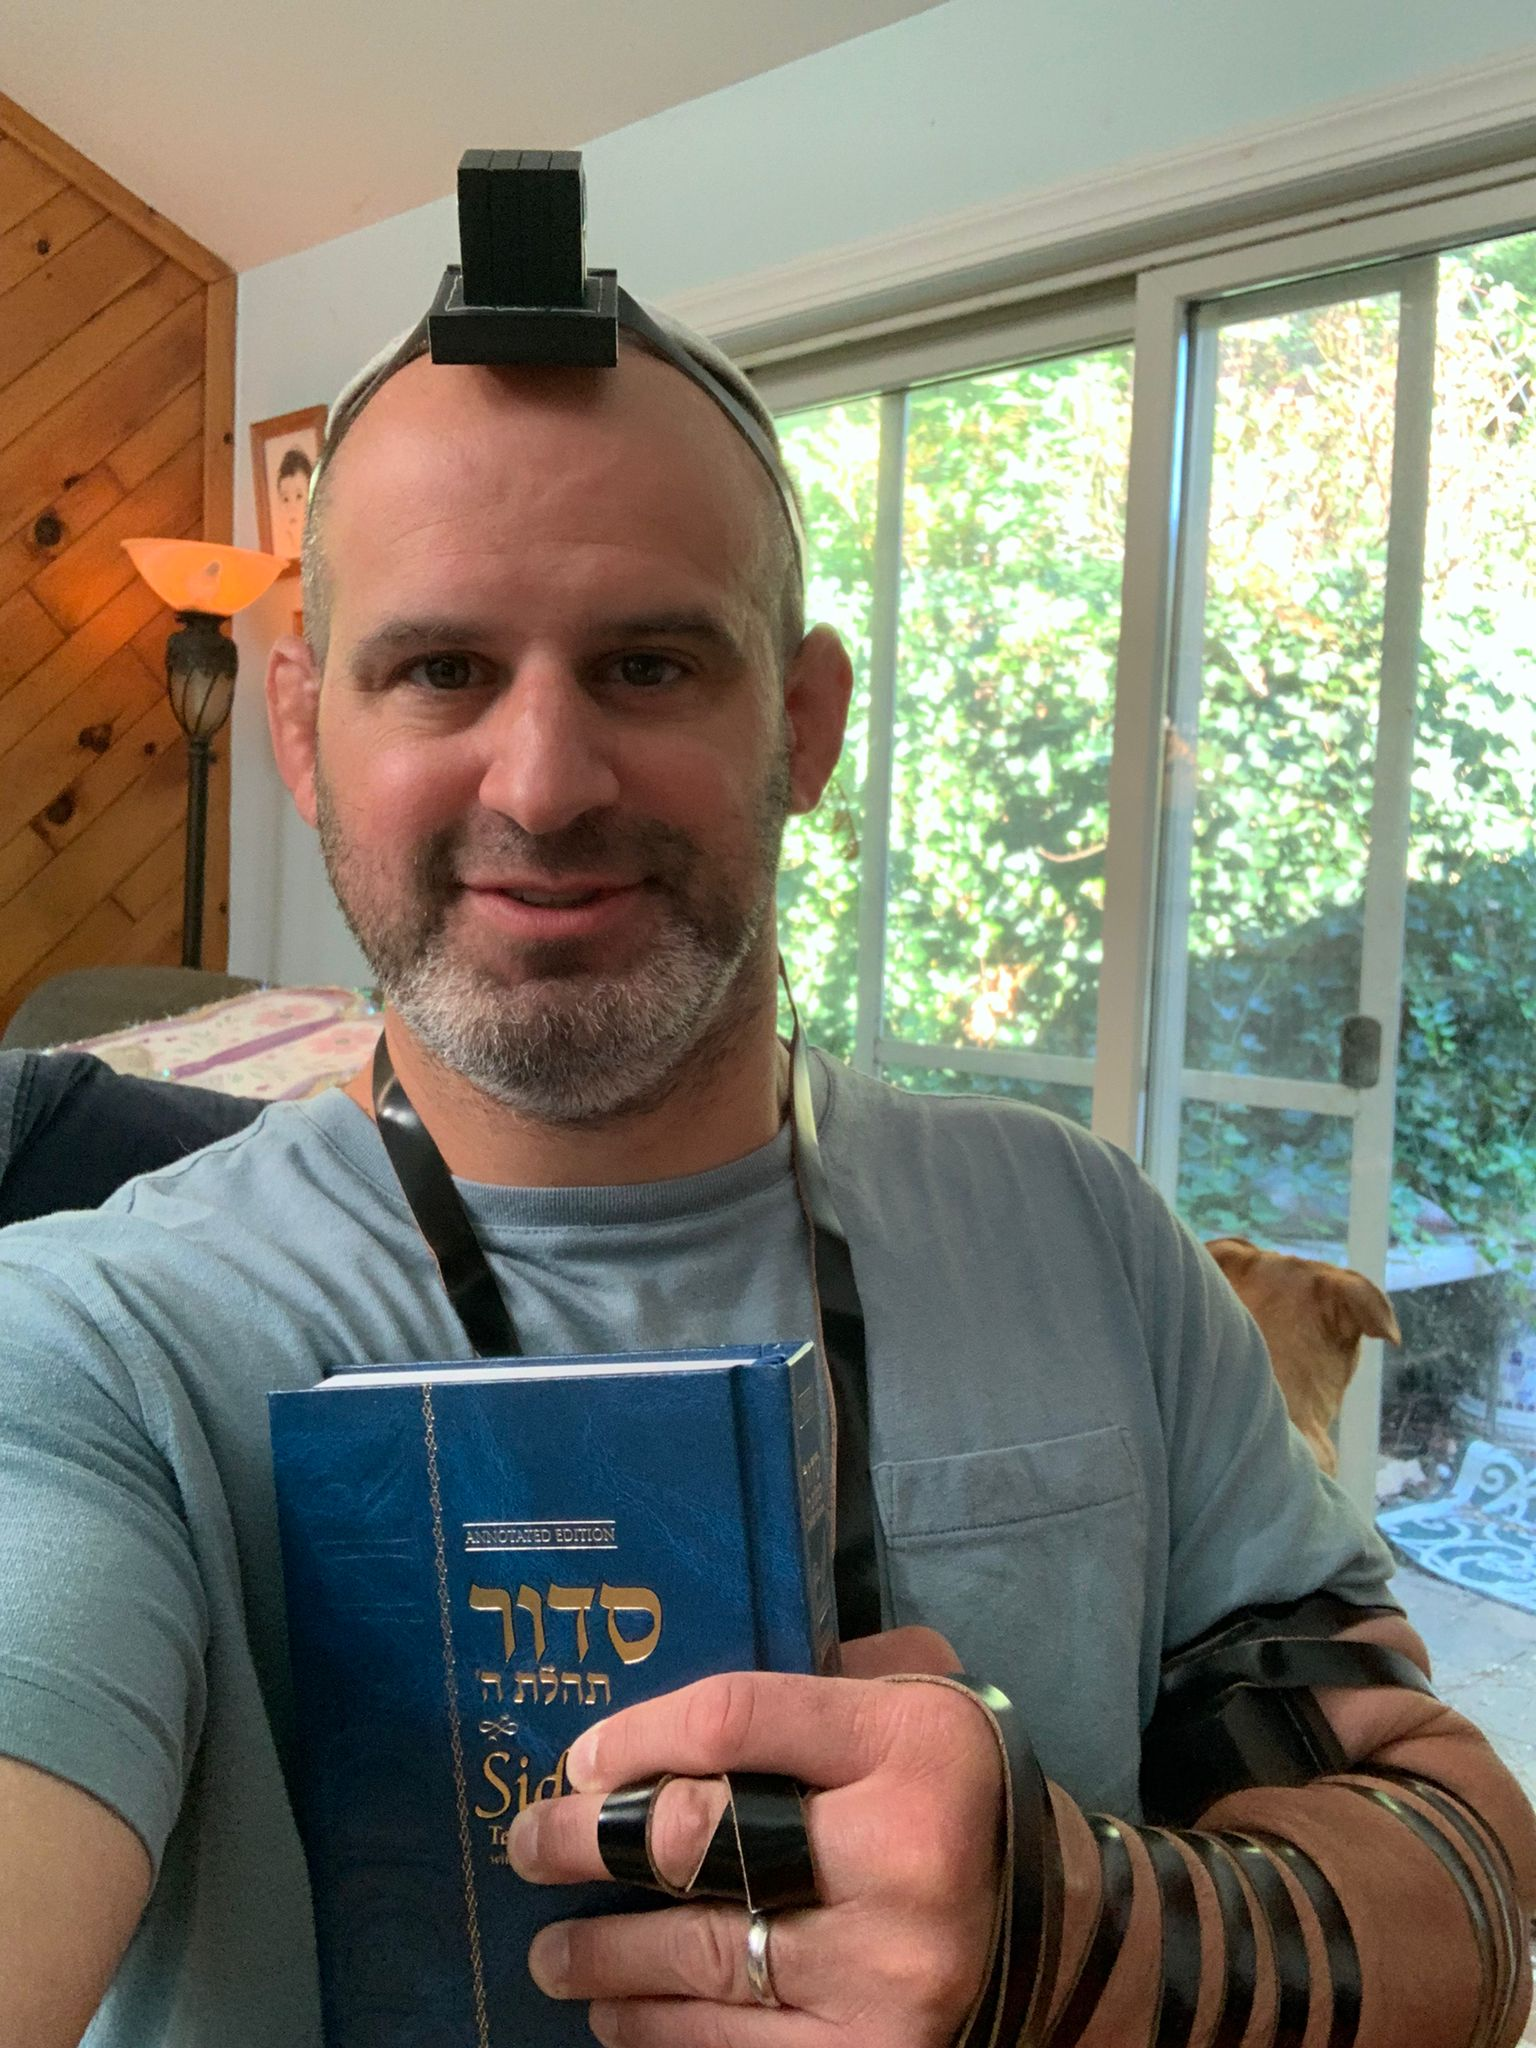tefillin: (1137, 1606, 1346, 1817), (431, 147, 621, 366)
